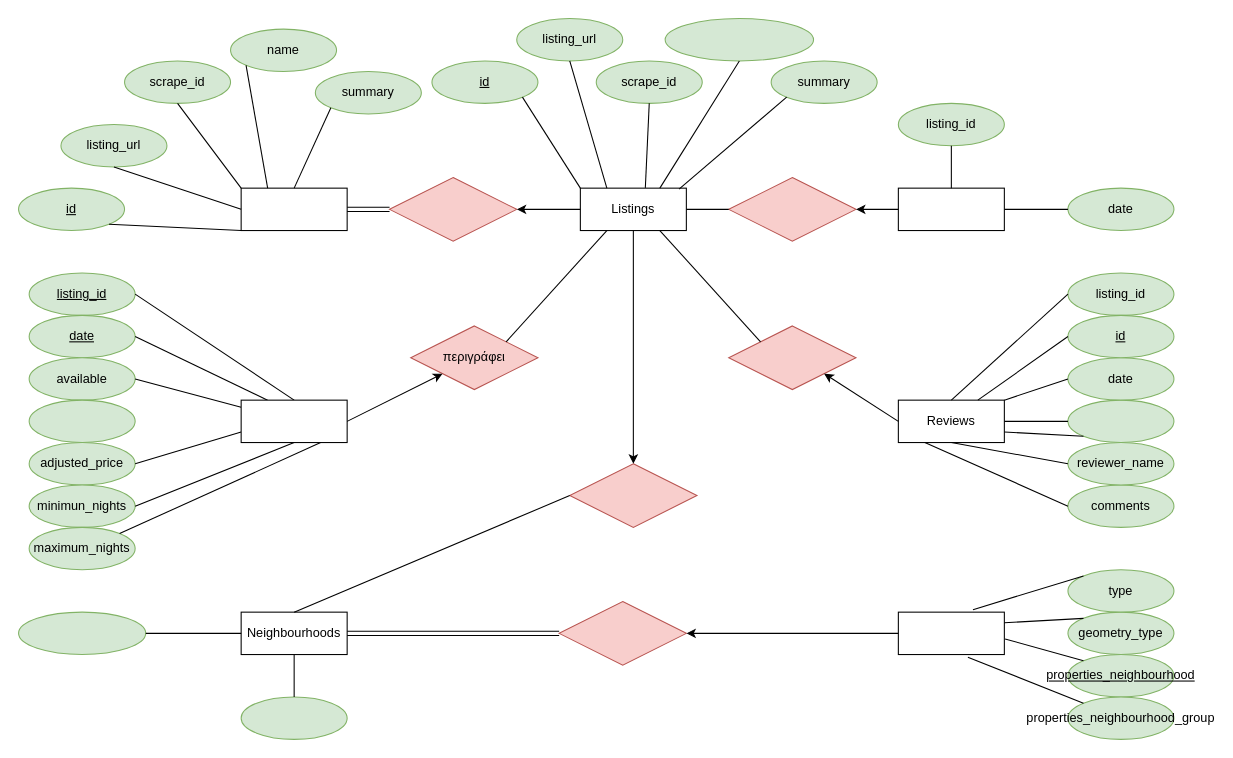
Image size: 1233x758. Some labels were removed from this diagram. The shapes that lost their labels are listed below. From the top down, each one's box as (x1, y1, x2, y2) in pixels, then its label:
(664, 17, 814, 61): neighbourhood_cleansed
(240, 187, 347, 231): Listings-Summary
(388, 176, 517, 241): συνοψίζεται από
(728, 176, 856, 241): αναφέρεται σε
(897, 187, 1004, 231): Reviews-Summary
(728, 325, 856, 390): αξιολογεί
(28, 399, 135, 443): price
(240, 399, 347, 443): Calendar
(1067, 399, 1174, 443): reviewer_id
(569, 463, 697, 527): βρίσκεται
(17, 611, 146, 655): neighbourhood_group
(558, 600, 686, 665): χαρακτηρίζει
(897, 611, 1004, 655): Geolocation
(240, 696, 347, 739): neighbourhood
